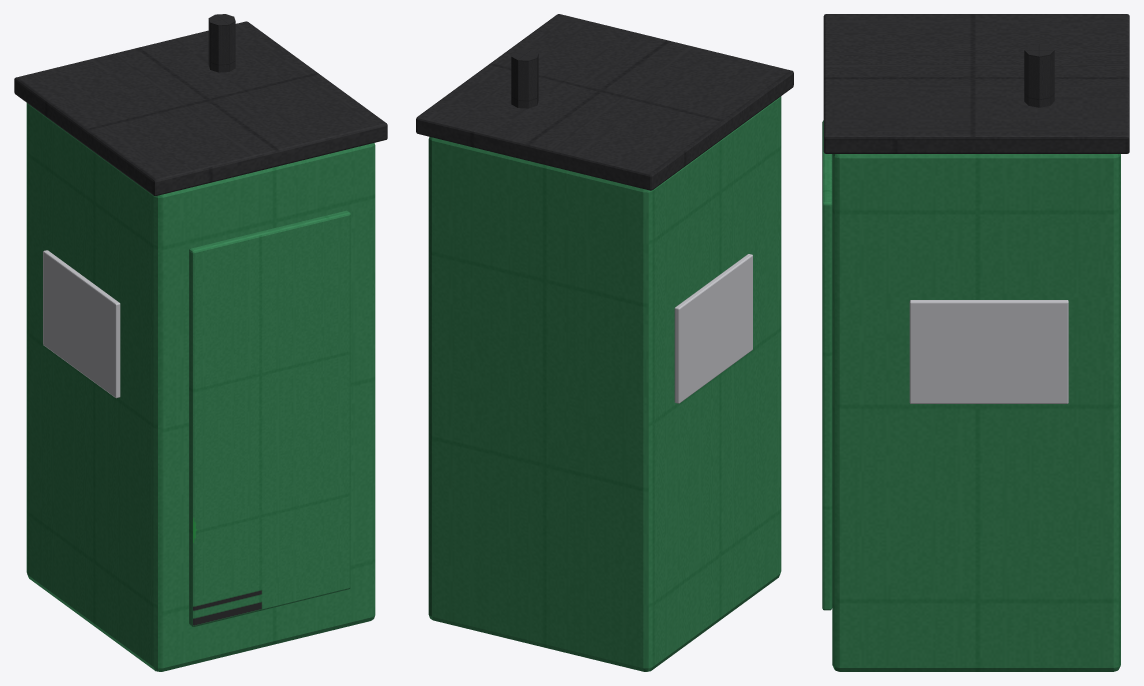
File: portapotty_green.dae
3 views of the same model, side by side, from view 1: azimuth 30°, elevation 25°; view 2: azimuth 150°, elevation 25°; view 3: azimuth 270°, elevation 25° (orthographic). The views are drawn at different scales.
Parts seen in each view (by area): view 1: body, door, roof, logo_0, vent; view 2: body, roof, logo_0, vent; view 3: body, roof, logo_1, door, vent.
Boxes of the visible parts, x1,y1,x2,y2 form: body: (26,103,375,671); door: (189,210,350,626); roof: (14,21,387,195); logo_0: (43,250,120,398); vent: (208,14,235,72); body: (428,96,781,671); roof: (416,14,793,190); logo_0: (674,254,752,403); vent: (511,49,538,108); body: (832,154,1120,671); roof: (823,14,1129,153); logo_1: (909,300,1068,403); door: (822,120,832,610); vent: (1024,44,1054,107).
Size of the model in its own units: 1.17 by 1.22 by 2.6.
4 materials, 4 textured.
